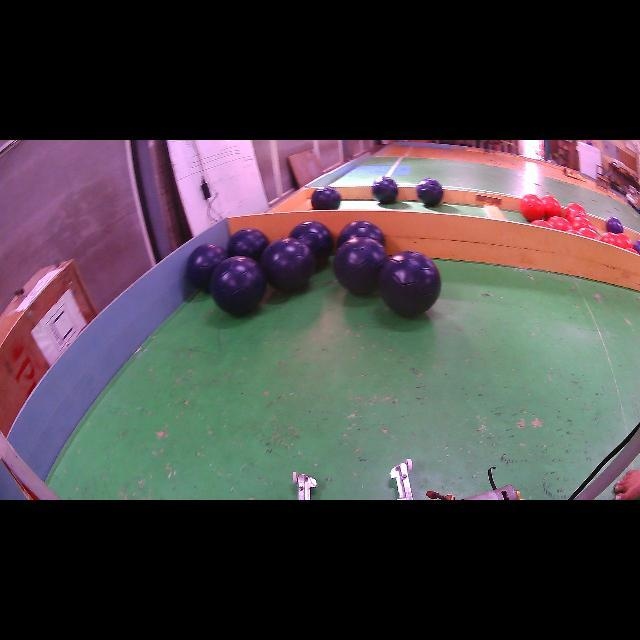B: (379, 251, 441, 316), (210, 256, 266, 315), (334, 236, 386, 294), (260, 238, 315, 291), (290, 221, 334, 269), (186, 244, 228, 291), (336, 220, 385, 248), (228, 228, 269, 261), (372, 176, 399, 204), (416, 179, 444, 206), (311, 186, 341, 210)
P: (606, 216, 624, 234), (634, 240, 640, 254)
R: (519, 194, 545, 221), (541, 195, 561, 220), (548, 216, 572, 231), (600, 232, 622, 248), (572, 216, 595, 231), (576, 228, 600, 240), (618, 232, 634, 248), (566, 210, 586, 222), (566, 202, 586, 214), (530, 219, 552, 229), (626, 248, 639, 254)
